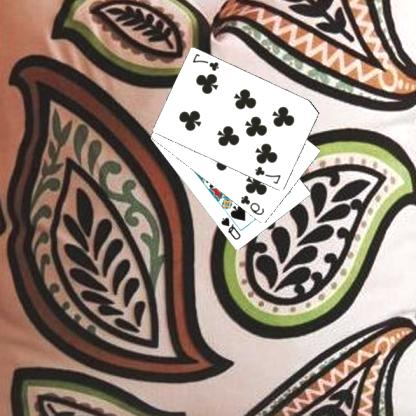6C: (239, 193, 268, 217)
7C: (254, 163, 284, 186), (192, 51, 223, 72)
QS: (220, 214, 244, 242)
